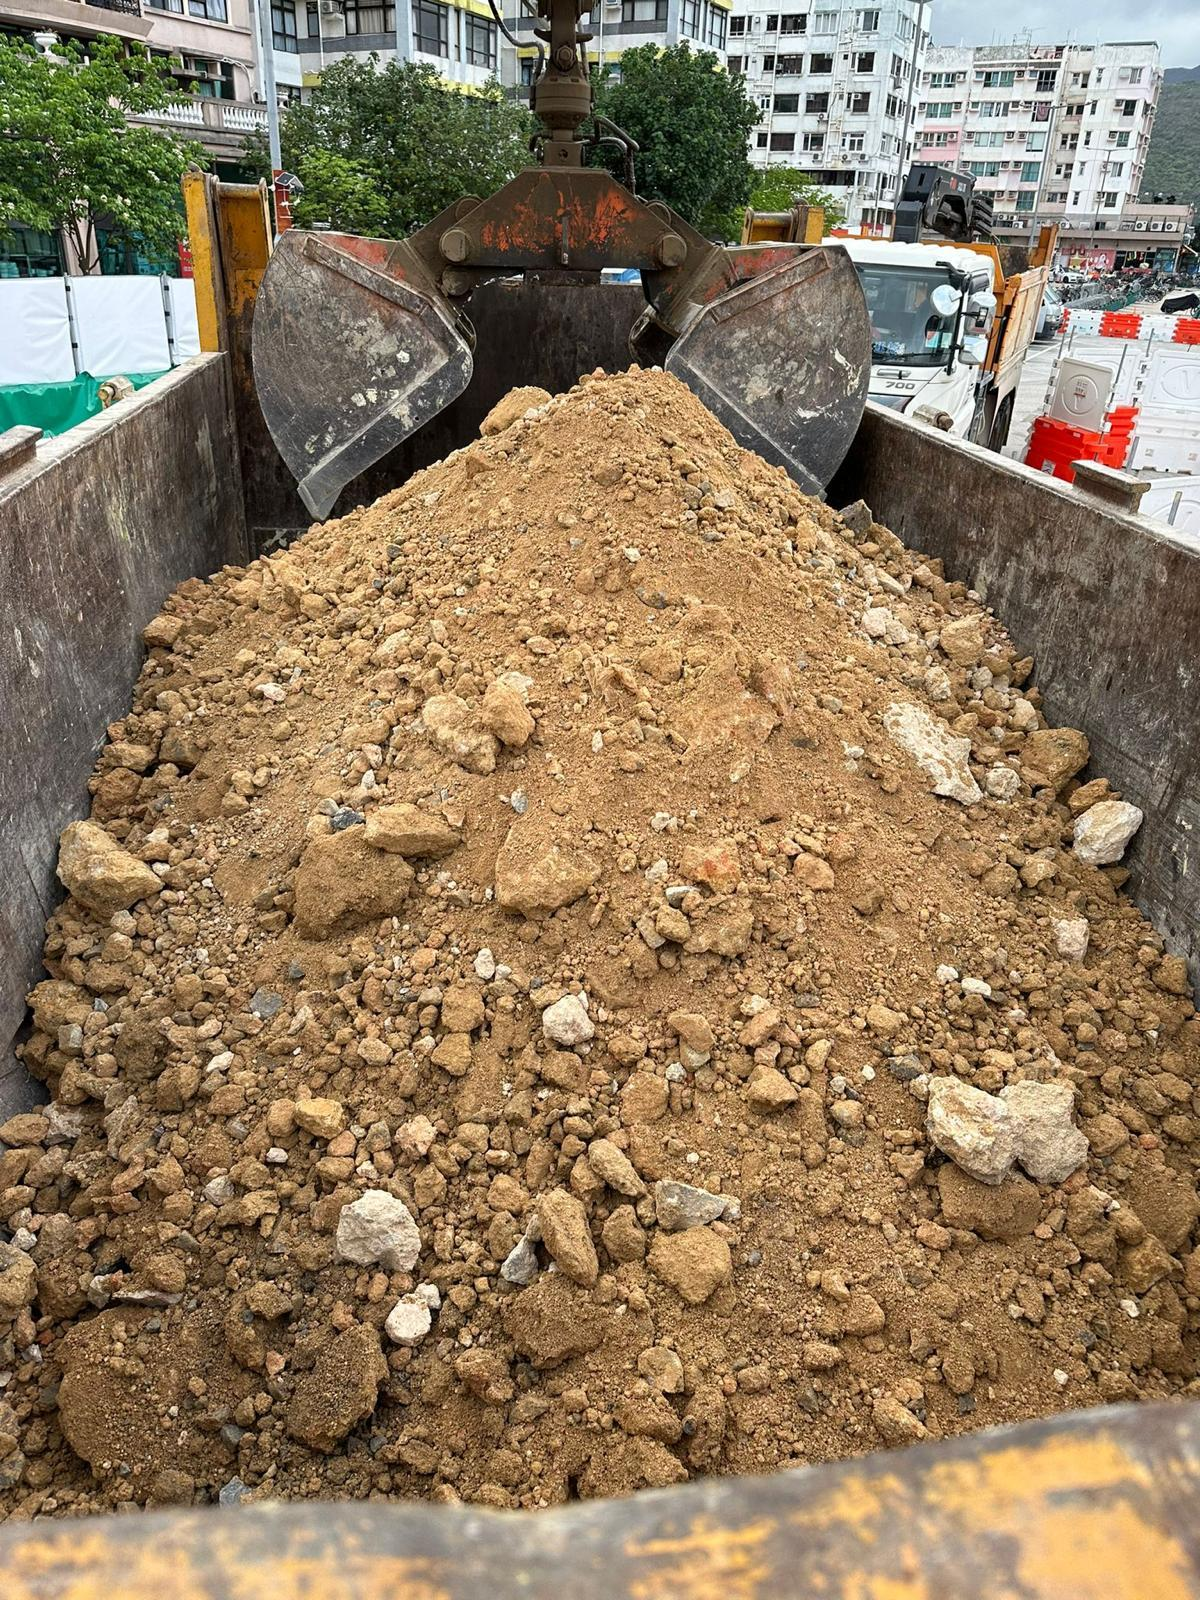dry: (13, 380, 1200, 1518)
